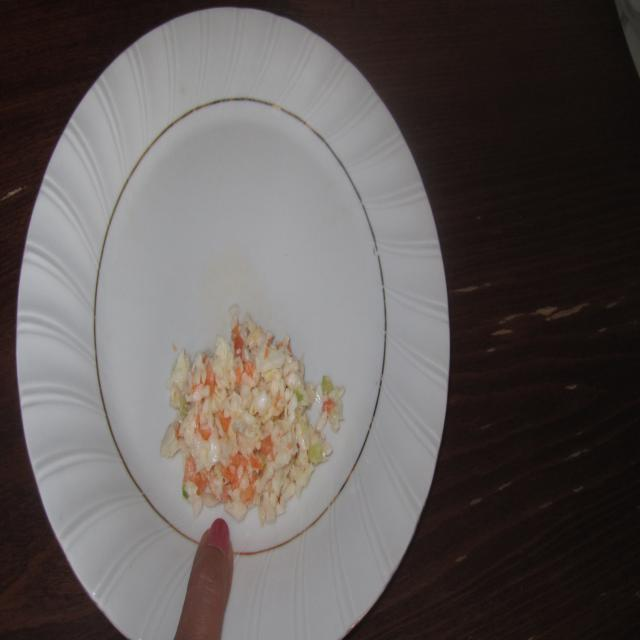vegatable salad: (158, 297, 357, 520)
